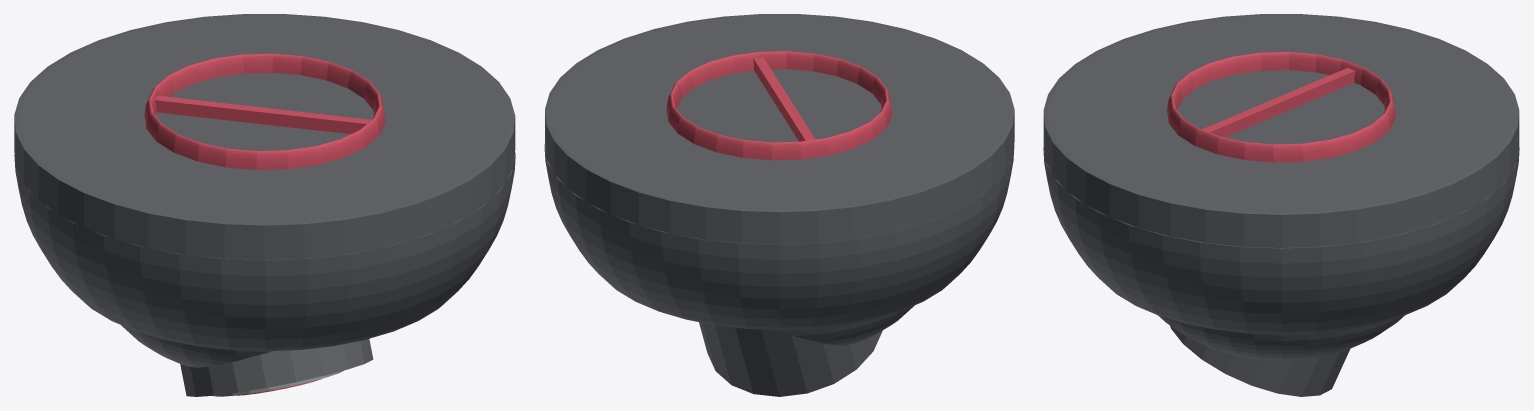
The model's file is Camera Indoor Dome Non-Operational.glb.
3 views of the same model, side by side, from view 1: azimuth 30°, elevation 25°; view 2: azimuth 150°, elevation 25°; view 3: azimuth 270°, elevation 25° (orthographic). The views are drawn at different scales.
Visible parts, largest first — view 1: Mesh_Mesh_head_geo.001_lambert2SG.001; view 2: Mesh_Mesh_head_geo.001_lambert2SG.001; view 3: Mesh_Mesh_head_geo.001_lambert2SG.001.
Boxes of the visible parts, x1,y1,x2,y2 form: Mesh_Mesh_head_geo.001_lambert2SG.001: (14, 14, 515, 396); Mesh_Mesh_head_geo.001_lambert2SG.001: (544, 14, 1014, 396); Mesh_Mesh_head_geo.001_lambert2SG.001: (1043, 14, 1519, 396).
Size of the model in its own units: 66.04 by 43 by 66.04.
